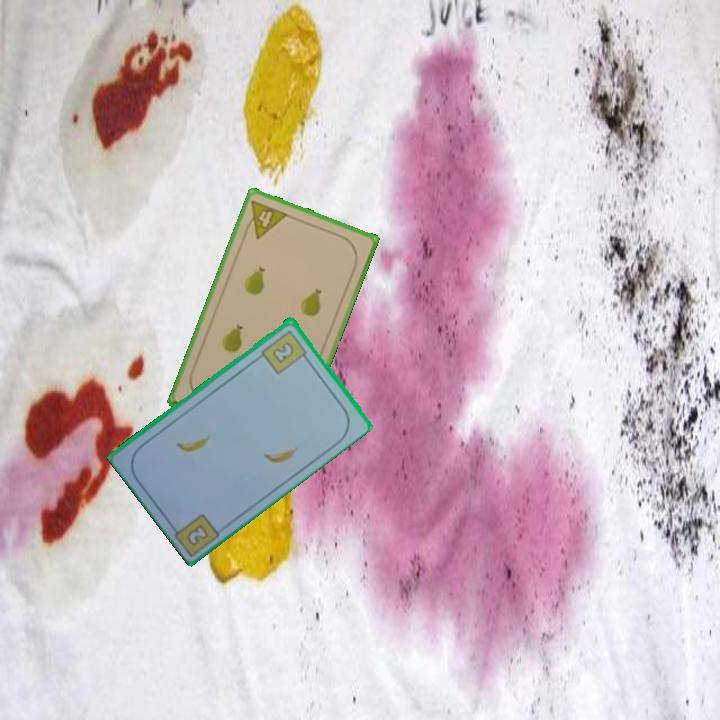2b: (258, 326, 312, 377), (183, 520, 212, 549)
4p: (240, 196, 291, 242)
